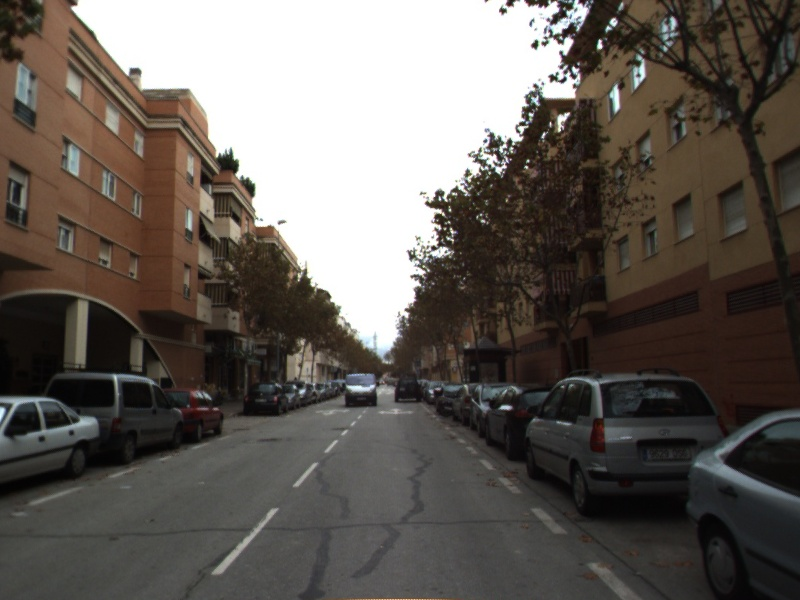STRAIGHT_LEFT_RIGHT: (376, 406, 417, 417)
